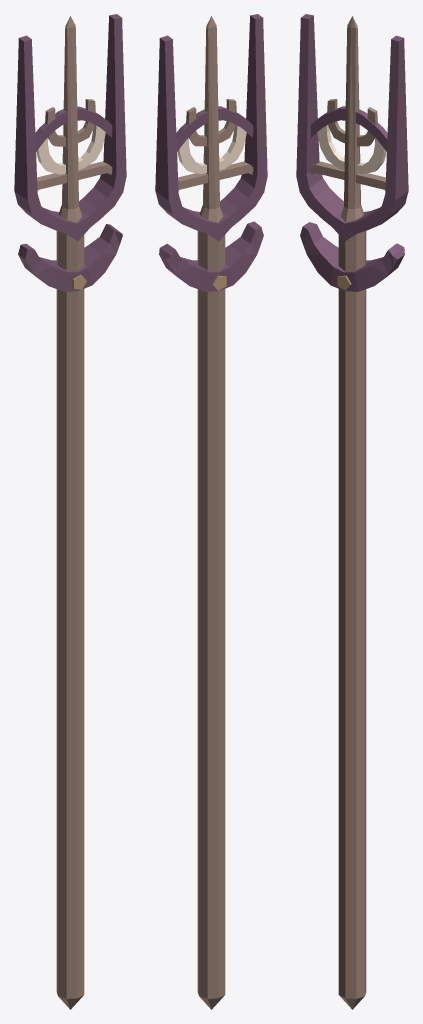
File: cane-15.glb
The picture shows the model from 3 angles, left to right: view 1: azimuth 30°, elevation 25°; view 2: azimuth 210°, elevation 25°; view 3: azimuth 330°, elevation 25°; orthographic projection.
Parts seen in each view (by area): view 1: cane_15; view 2: cane_15; view 3: cane_15.
Part boxes in pixels (x1,y1,x2,y2): cane_15: (14,14,126,1009); cane_15: (155,14,267,1009); cane_15: (296,14,408,1009).
Bounding box in the file's own units: 19.93 × 191 × 6.45.
1 material, 1 textured.
